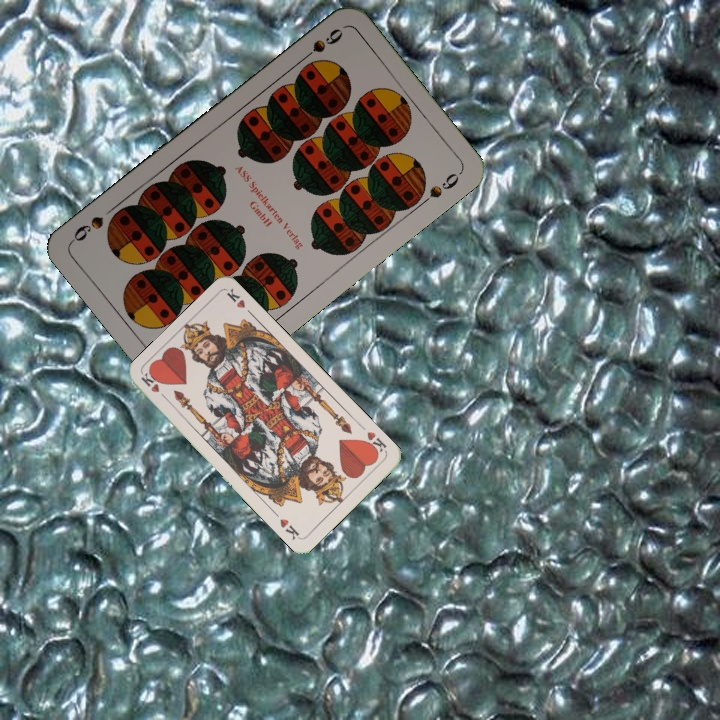HK: (137, 369, 171, 404), (360, 427, 389, 457)
S9: (295, 24, 346, 66)
